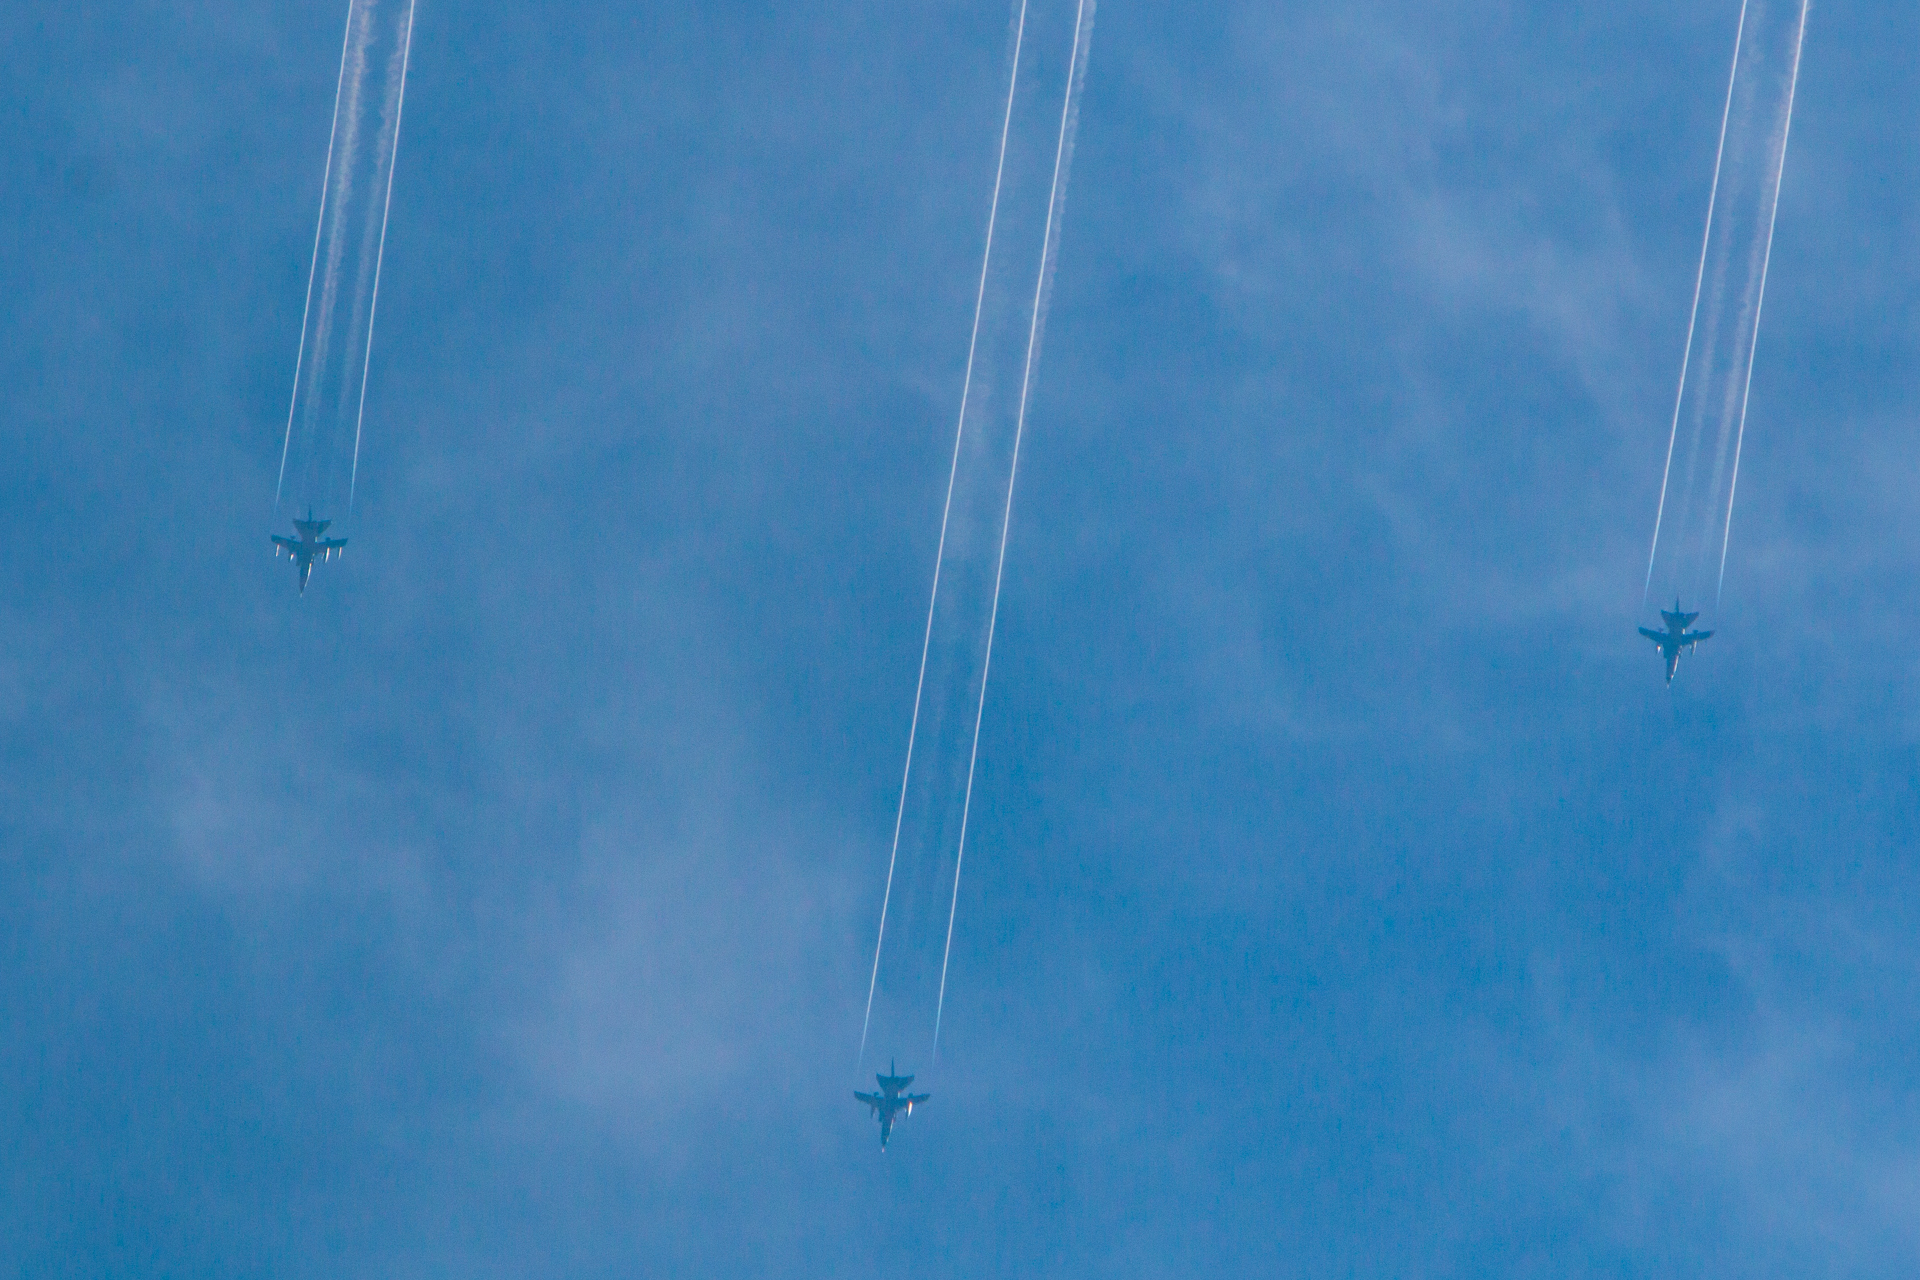Tornado: (269, 500, 349, 600), (851, 1054, 931, 1153), (1637, 593, 1716, 691)
